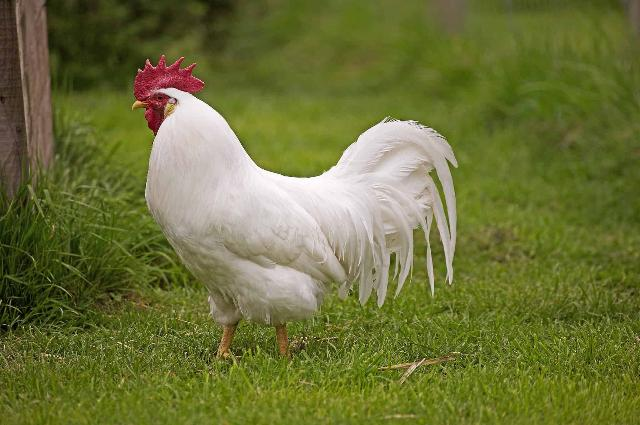Chicken: (132, 53, 460, 360)
